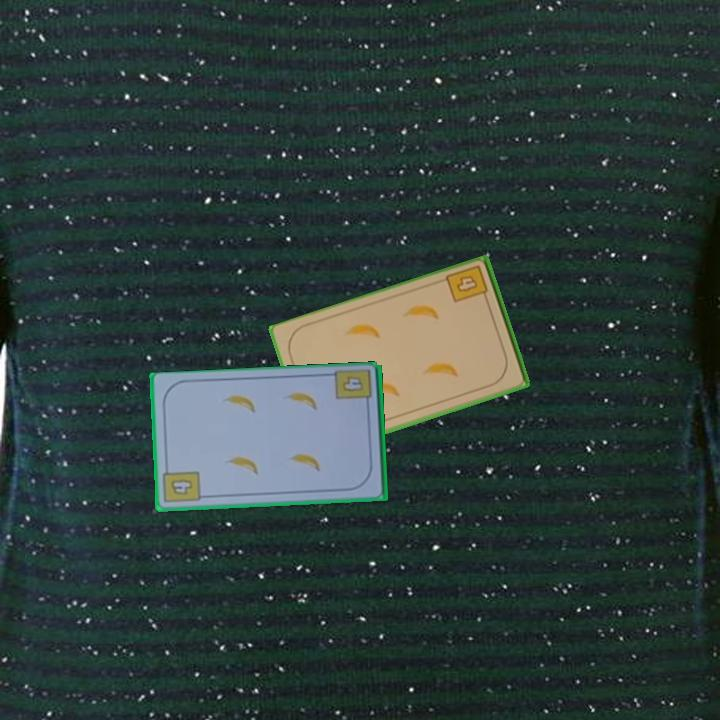4b: (443, 262, 491, 306), (160, 462, 203, 506), (338, 373, 366, 395)
